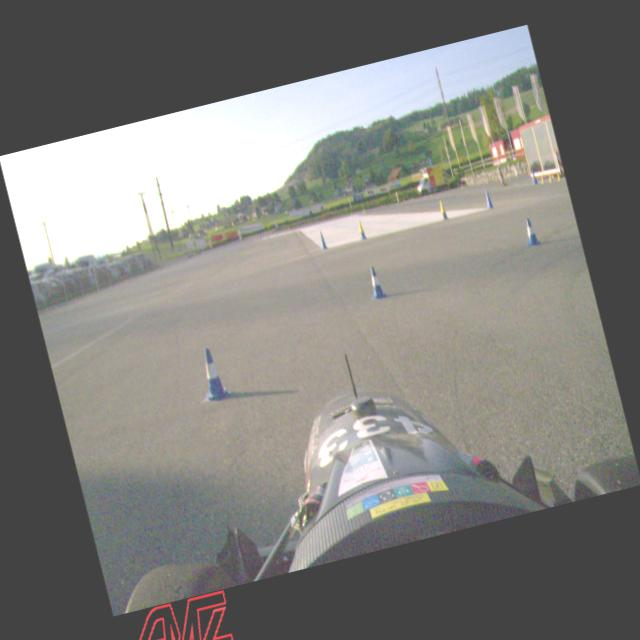blue_cone: (190, 343, 232, 405), (364, 264, 388, 302), (522, 215, 541, 248), (316, 230, 329, 252), (482, 188, 494, 210), (530, 168, 538, 184)
yellow_cone: (437, 198, 447, 213), (356, 218, 364, 234), (539, 174, 545, 184), (547, 172, 553, 182), (554, 170, 560, 180)
